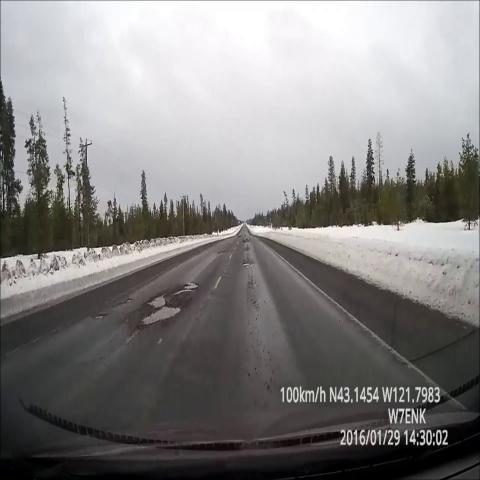pothole: (135, 270, 204, 346), (88, 308, 110, 330), (116, 288, 136, 312), (237, 253, 258, 274), (238, 235, 257, 255), (212, 242, 230, 262)
